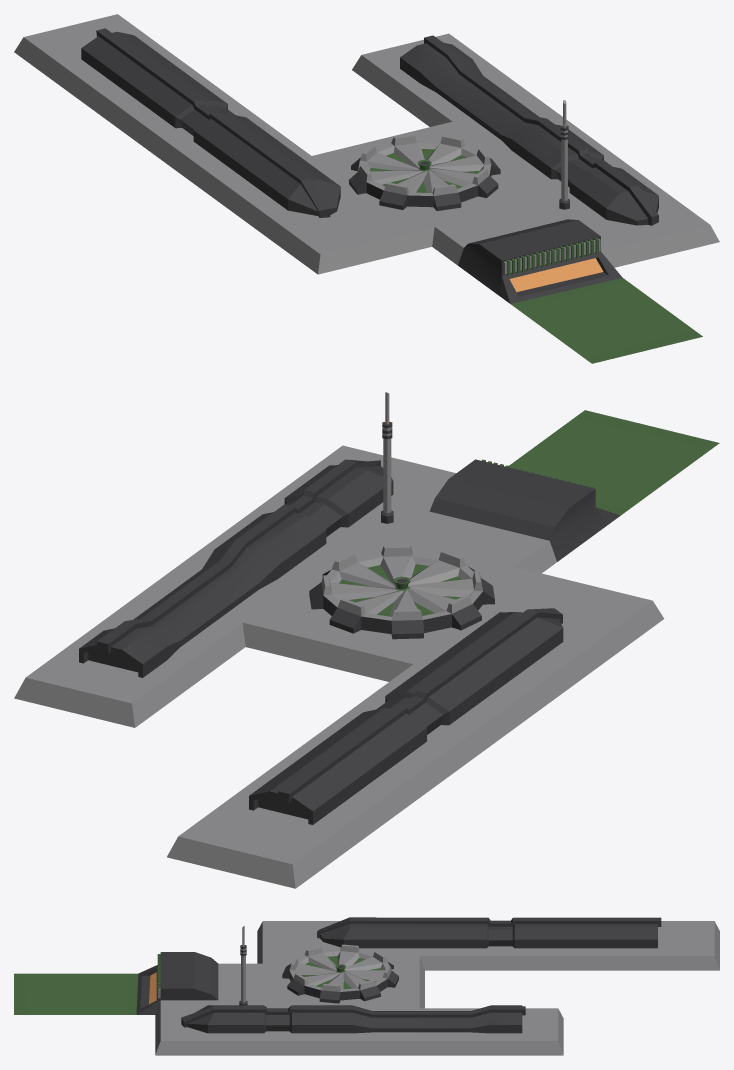
Rendered from ship_roof.fbx.
3 renders of one model, top to bottom at view 1: azimuth 30°, elevation 25°; view 2: azimuth 150°, elevation 25°; view 3: azimuth 270°, elevation 25°, orthographic. The views are drawn at different scales.
Visible parts, largest first — view 1: polySurface201, pCube94, pCube95, pCylinder24, pCylinder25; view 2: polySurface201, pCube94, pCube95, pCylinder24, pCylinder25; view 3: polySurface201, pCube94, pCube95, pCylinder24, pCylinder25.
Part boxes in pixels (bbox=[...]): polySurface201: bbox=[14, 14, 719, 363]; pCube94: bbox=[81, 28, 340, 217]; pCube95: bbox=[400, 35, 658, 225]; pCylinder24: bbox=[348, 134, 500, 210]; pCylinder25: bbox=[559, 100, 569, 209]; polySurface201: bbox=[14, 410, 719, 888]; pCube94: bbox=[249, 608, 563, 824]; pCube95: bbox=[79, 459, 393, 677]; pCylinder24: bbox=[309, 545, 494, 639]; pCylinder25: bbox=[381, 392, 393, 523]; polySurface201: bbox=[14, 921, 719, 1055]; pCube94: bbox=[317, 917, 661, 948]; pCube95: bbox=[181, 1005, 525, 1033]; pCylinder24: bbox=[282, 944, 398, 1003]; pCylinder25: bbox=[239, 926, 247, 1005].
Size of the model in its own units: 1468 by 514 by 3523.
